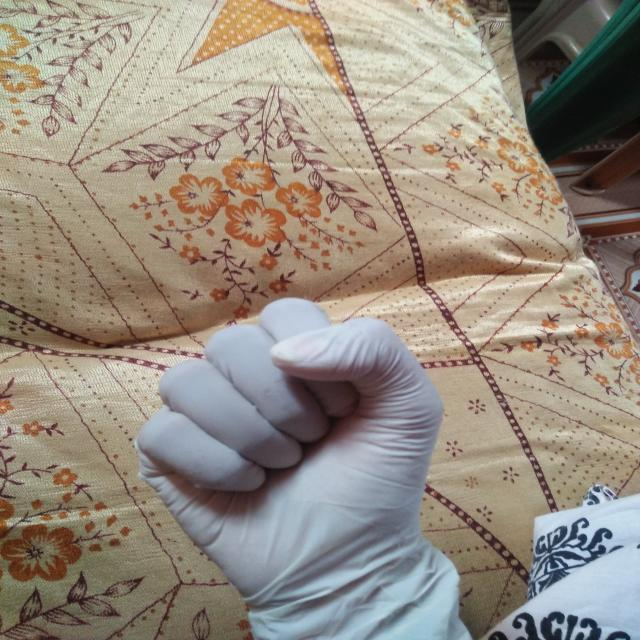glove_hand: (124, 297, 478, 637)
